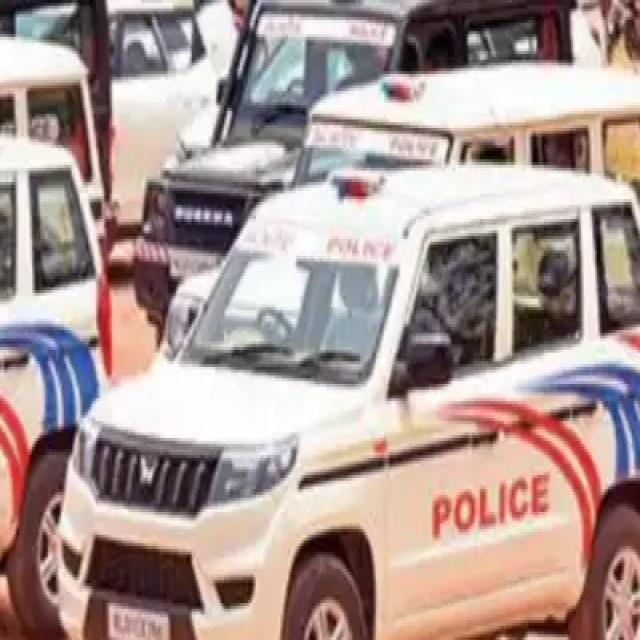Ambulance: (0, 0, 638, 637), (286, 57, 638, 208), (0, 128, 115, 384)
